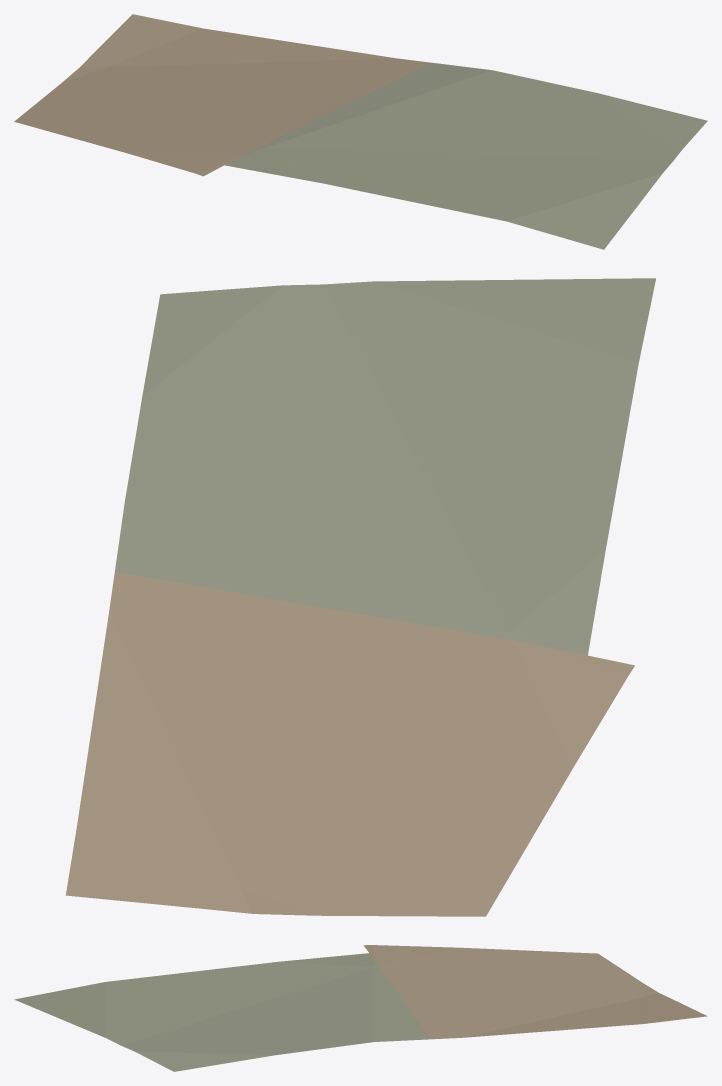
File: farm_-32_-23_soil.glb
3 renders of one model, top to bottom at view 1: azimuth 30°, elevation 25°; view 2: azimuth 150°, elevation 25°; view 3: azimuth 270°, elevation 25°, orthographic. The views are drawn at different scales.
Parts seen in each view (by area): view 1: geometry_0; view 2: geometry_0; view 3: geometry_0.
Part boxes in pixels (<box>): geometry_0: <box>14,14,707,249</box>; geometry_0: <box>65,278,655,916</box>; geometry_0: <box>14,945,707,1071</box>.
Size of the model in its own units: 129 by 21.27 by 207.
